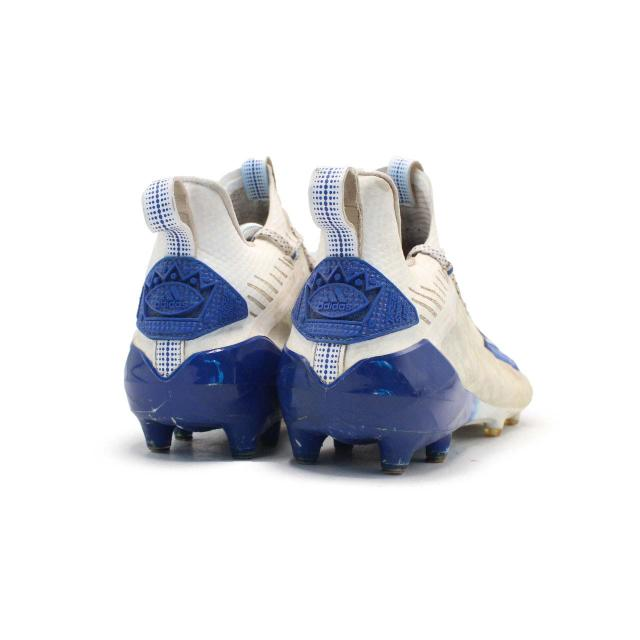heel: (68, 147, 306, 386), (238, 156, 476, 394)
midsole: (280, 384, 522, 471), (129, 386, 277, 456)
